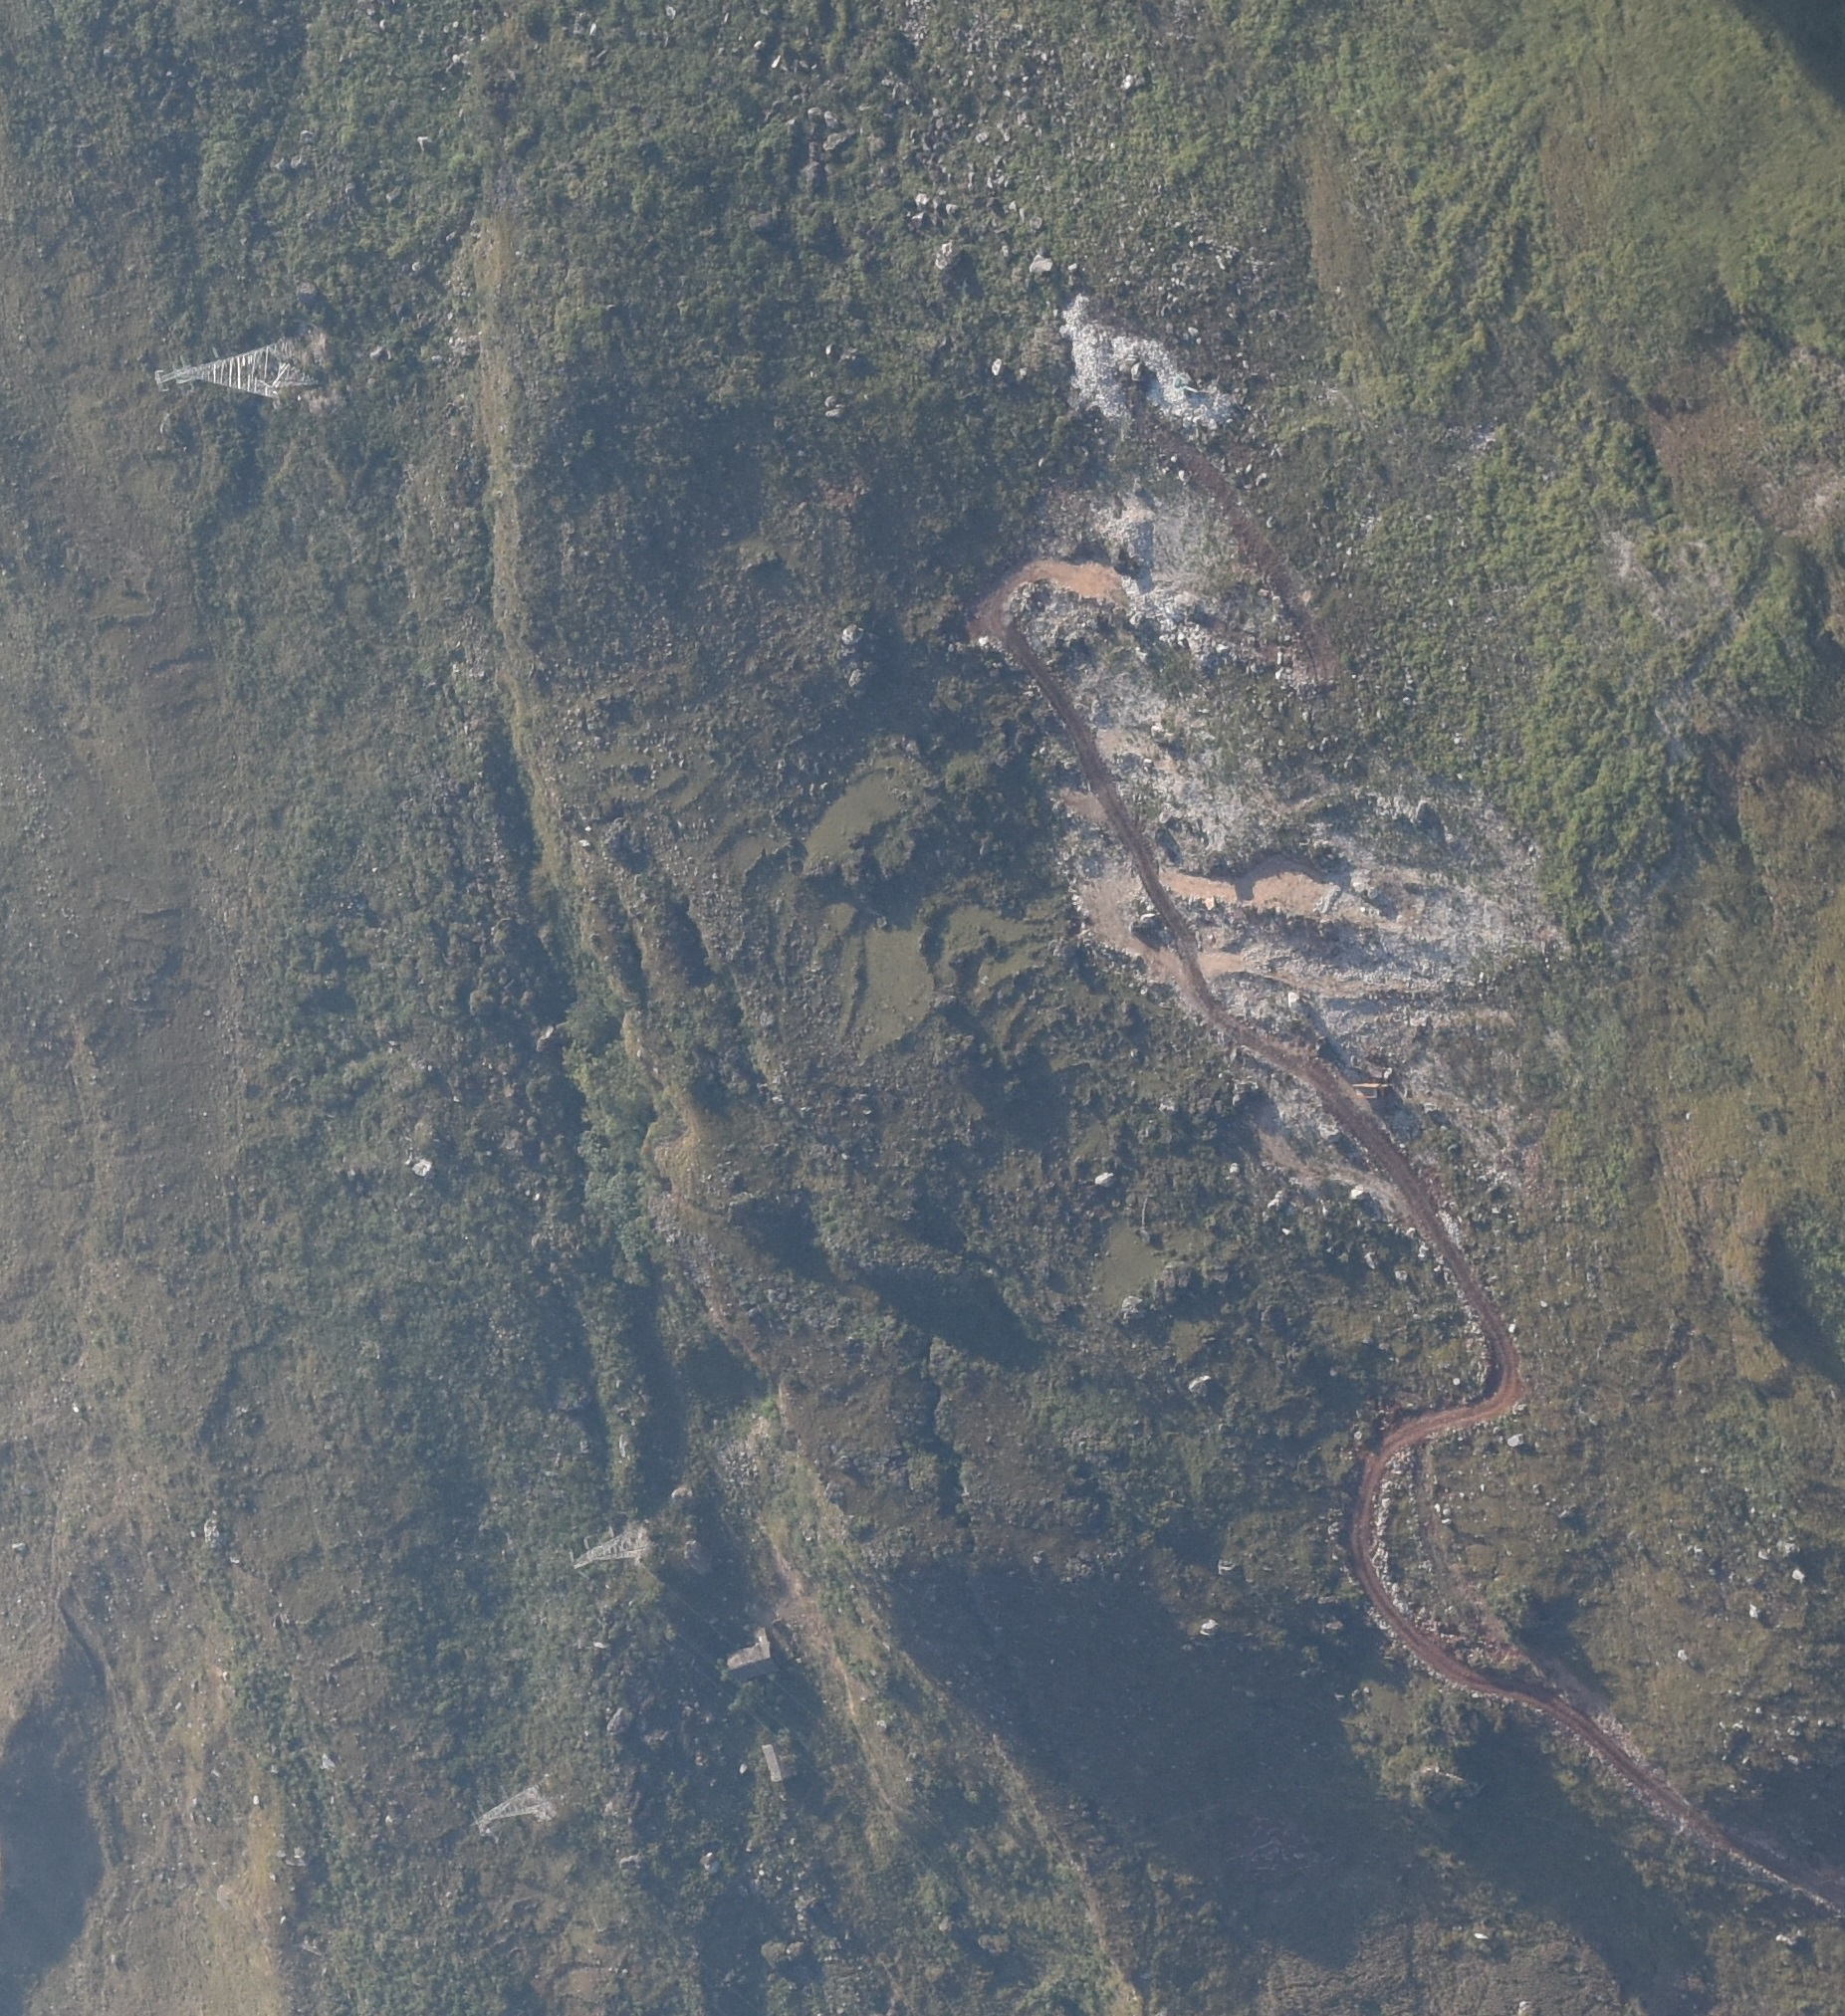building: (725, 1639, 779, 1685), (760, 1740, 798, 1782)
cable-tower: (153, 337, 326, 421), (472, 1783, 556, 1851), (570, 1523, 659, 1576)
quarry: (984, 516, 1559, 1227)
vehicle: (1350, 1082, 1393, 1101)
